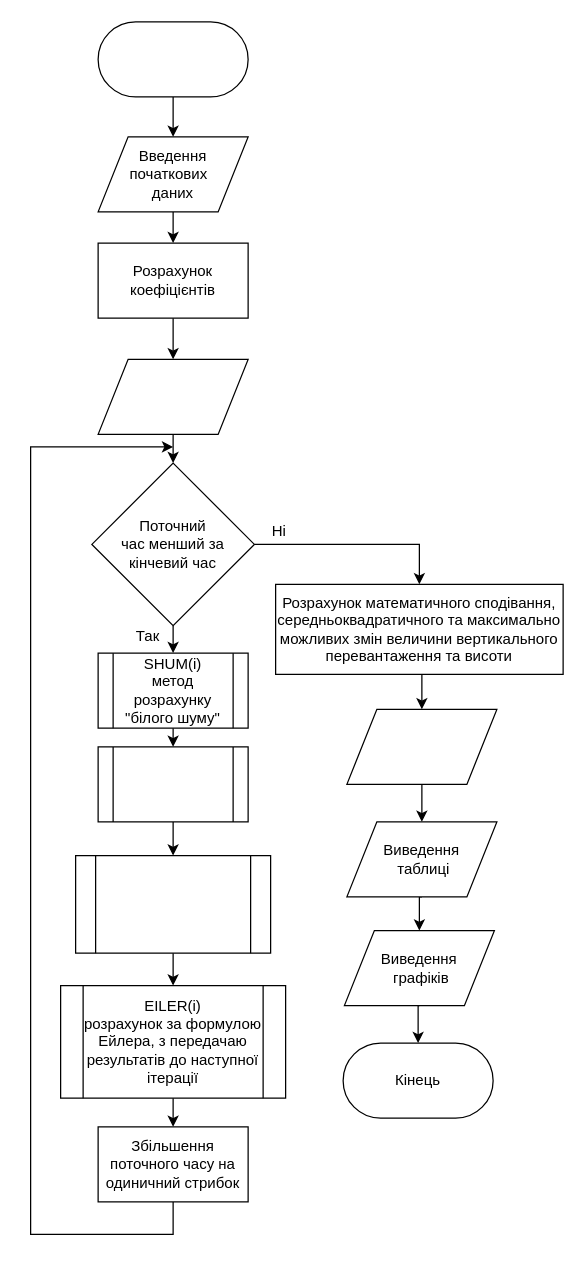
Image size: 585x1266. Some labels were removed from this diagram. Each missing label, with the centre of its shape:
"DIN(i) розрахунок значень за розв'язком диференціального рівняння" goes at point 172,903.
"SAU(i) метод розрахунку САУ" goes at point 172,784.
"Виведення значень" goes at point 421,746.
"Виведення коефіцієнтів" goes at point 172,396.
"Початок" goes at point 172,59.
